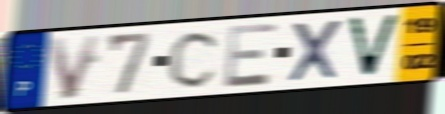7: (105, 31, 155, 96)
C: (166, 28, 224, 90)
E: (222, 20, 281, 90)
V: (45, 31, 104, 102), (344, 13, 403, 80)
X: (286, 17, 345, 85)
